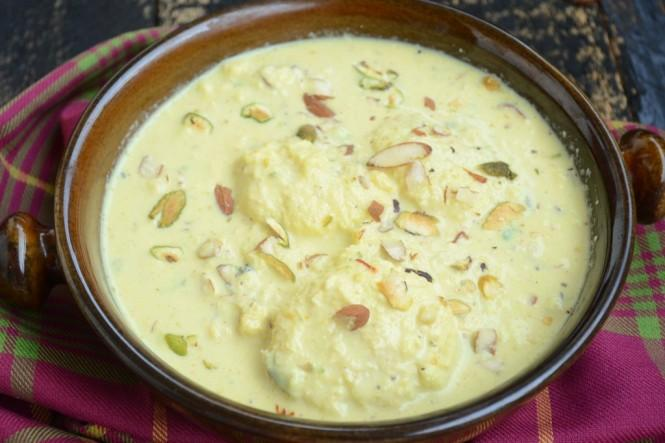RasMalai: (108, 38, 586, 417)
